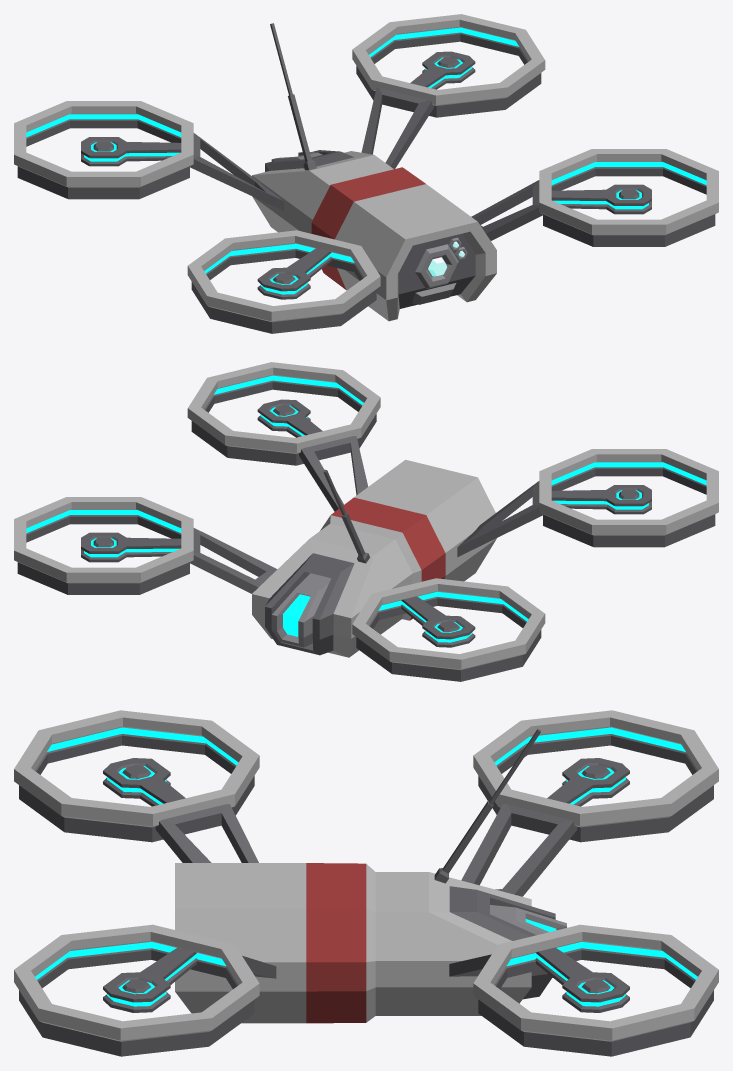
The model's file is Drone_Red.glb.
3 views of the same model, one above another, from view 1: azimuth 30°, elevation 25°; view 2: azimuth 150°, elevation 25°; view 3: azimuth 270°, elevation 25° (orthographic). The views are drawn at different scales.
Visible parts, largest first — view 1: default; view 2: default; view 3: default.
Boxes of the visible parts, x1,y1,x2,y2 form: default: (14, 14, 718, 333); default: (14, 362, 718, 681); default: (14, 710, 718, 1056).
Size of the model in its own units: 1.25 by 0.4568 by 1.17.
Materials: 1 (1 with a texture image).
